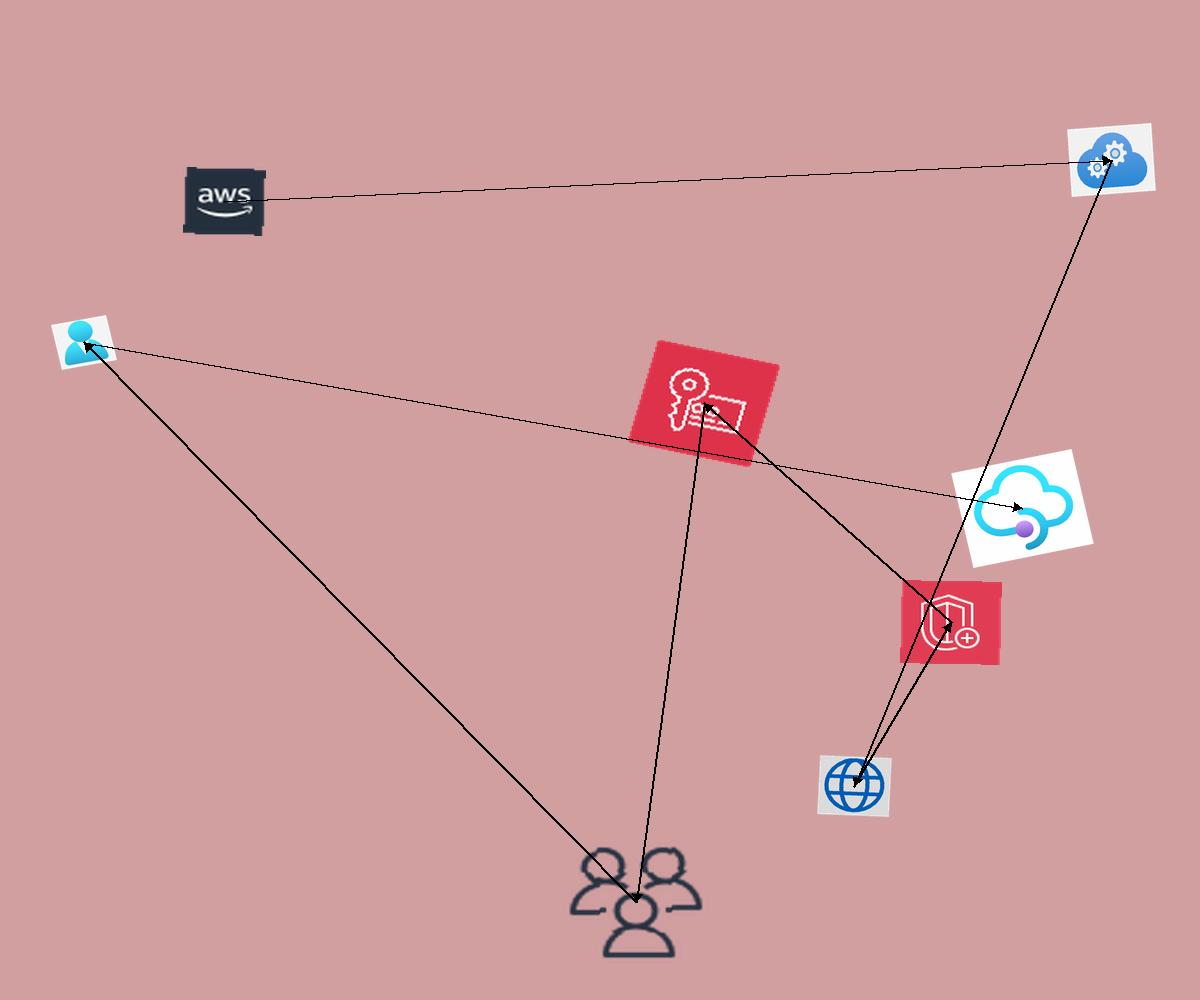AWS-Cloud-logo: (183, 167, 266, 236)
AWS-Key-Management-Service: (627, 339, 781, 468)
AWS-Res_Users: (561, 840, 711, 965)
AWS-Shield: (900, 580, 1002, 665)
Azure_api_gateway: (951, 449, 1094, 568)
Azure_cloud_services: (1067, 123, 1156, 197)
Azure_http: (817, 755, 892, 817)
Azure_users: (51, 315, 117, 370)
